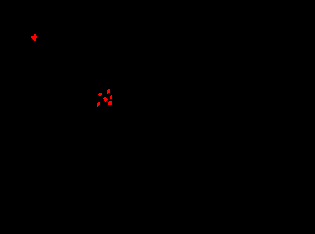Target: (31, 34, 37, 41), (103, 97, 108, 102), (108, 101, 112, 105), (107, 89, 110, 94), (97, 102, 100, 107), (98, 93, 102, 96), (110, 95, 112, 99)
